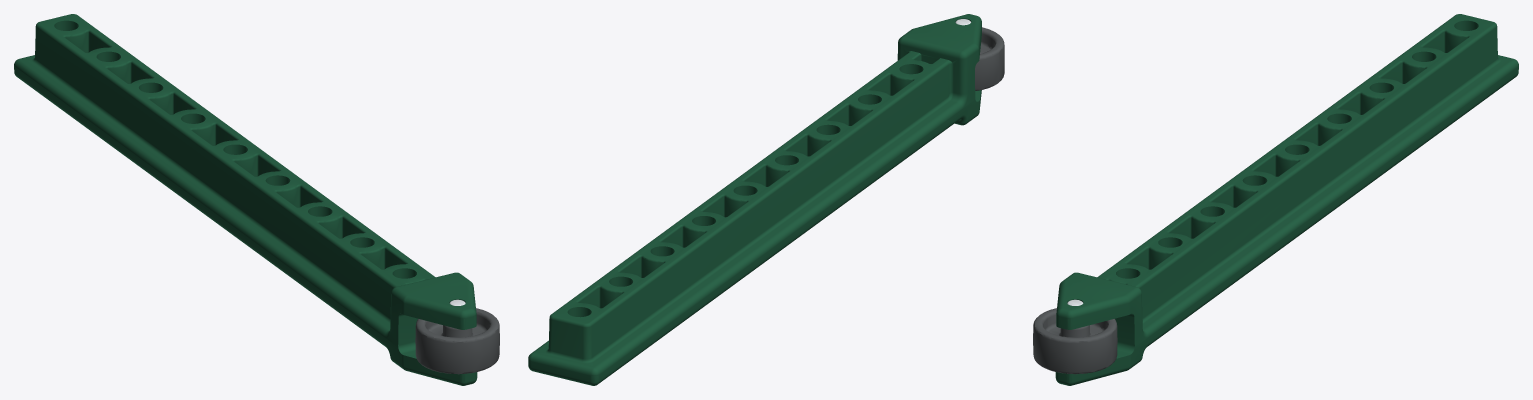
Rendered from cam-follower.glb.
3 renders of one model, left to right at view 1: azimuth 30°, elevation 25°; view 2: azimuth 150°, elevation 25°; view 3: azimuth 330°, elevation 25°, orthographic.
Visible parts, largest first — view 1: 276-2045-062 Rev1, 276-2045-063 Rev1; view 2: 276-2045-062 Rev1, 276-2045-063 Rev1; view 3: 276-2045-062 Rev1, 276-2045-063 Rev1.
Part boxes in pixels (x1,y1,x2,y2): 276-2045-062 Rev1: (14,14,477,385); 276-2045-063 Rev1: (415,308,499,374); 276-2045-062 Rev1: (528,14,981,385); 276-2045-063 Rev1: (975,27,1004,90); 276-2045-062 Rev1: (1055,14,1518,385); 276-2045-063 Rev1: (1033,308,1117,374).
Bounding box in the file's own units: 0.0127 × 0.0124 × 0.1295.
